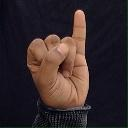hand: (26, 9, 89, 110)
